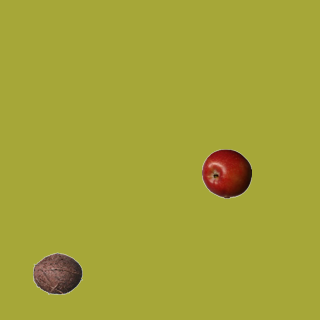Apple Braeburn: (201, 148, 251, 198)
Cocos: (32, 248, 82, 298)
